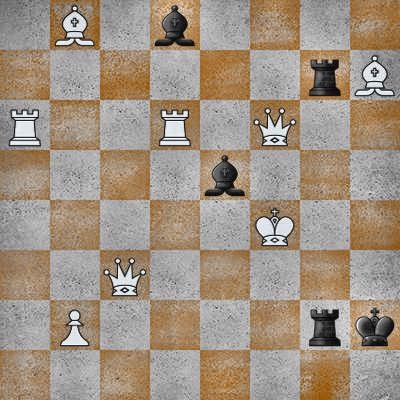black-bishop: (150, 0, 200, 50), (200, 150, 250, 200)
black-king: (350, 300, 400, 350)
black-rook: (300, 50, 350, 100), (300, 300, 350, 350)
white-bishop: (50, 0, 100, 50), (350, 50, 400, 100)
white-king: (250, 200, 300, 250)
white-pawn: (50, 300, 100, 350)
white-queen: (250, 100, 300, 150), (100, 250, 150, 300)
white-rook: (0, 100, 50, 150), (150, 100, 200, 150)
